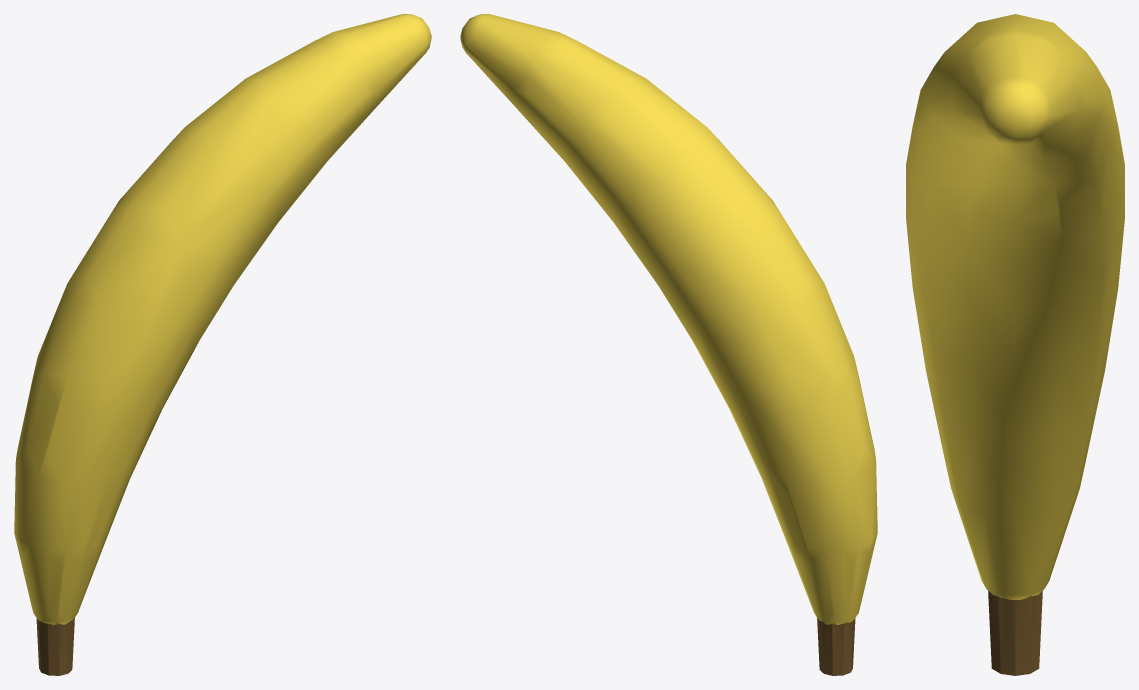
The model's file is banana.glb.
The picture shows the model from 3 angles, left to right: view 1: azimuth 30°, elevation 25°; view 2: azimuth 150°, elevation 25°; view 3: azimuth 270°, elevation 25°; orthographic projection. The views are drawn at different scales.
Visible parts, largest first — view 1: banana; view 2: banana; view 3: banana.
Part boxes in pixels (x1=…): banana: x1=14, y1=14, x2=431, y2=675; banana: x1=460, y1=14, x2=877, y2=675; banana: x1=906, y1=14, x2=1124, y2=675.
Bounding box in the file's own units: 0.0678 × 0.09 × 0.0212.
